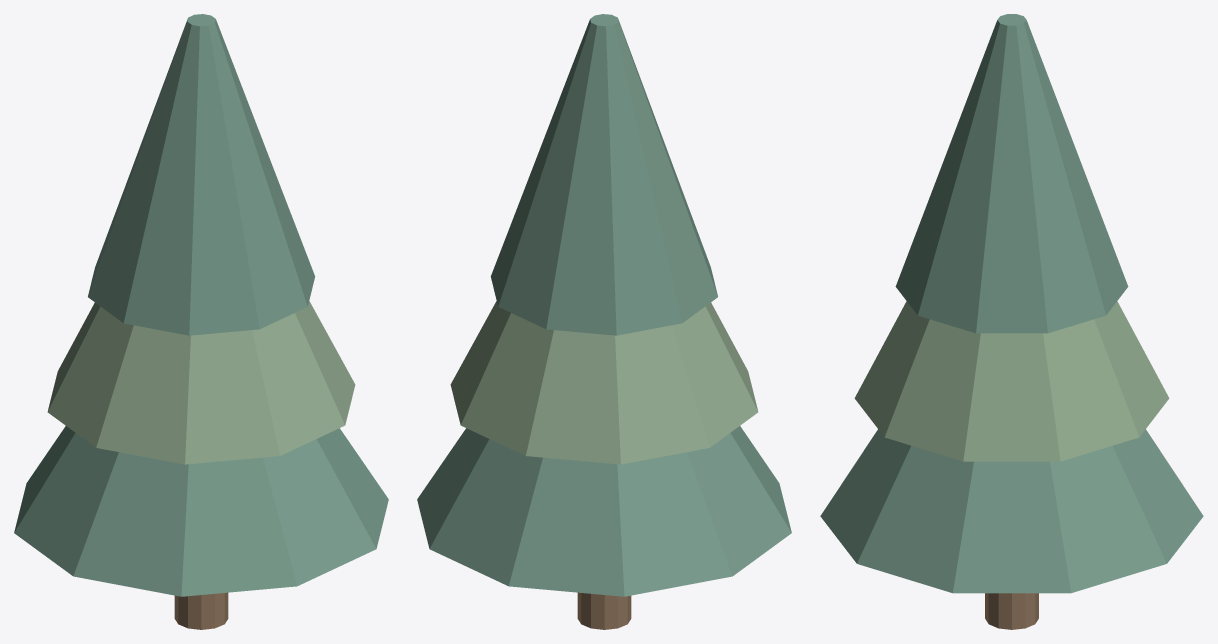
The model's file is PinePrototype.fbx.
3 renders of one model, left to right at view 1: azimuth 30°, elevation 25°; view 2: azimuth 150°, elevation 25°; view 3: azimuth 270°, elevation 25°, orthographic.
Visible parts, largest first — view 1: Pine trunk; view 2: Pine trunk; view 3: Pine trunk.
Part boxes in pixels (x1,y1,x2,y2): Pine trunk: (14, 14, 388, 629); Pine trunk: (417, 14, 791, 629); Pine trunk: (820, 14, 1203, 629).
Bounding box in the file's own units: 298 × 314 × 540.
